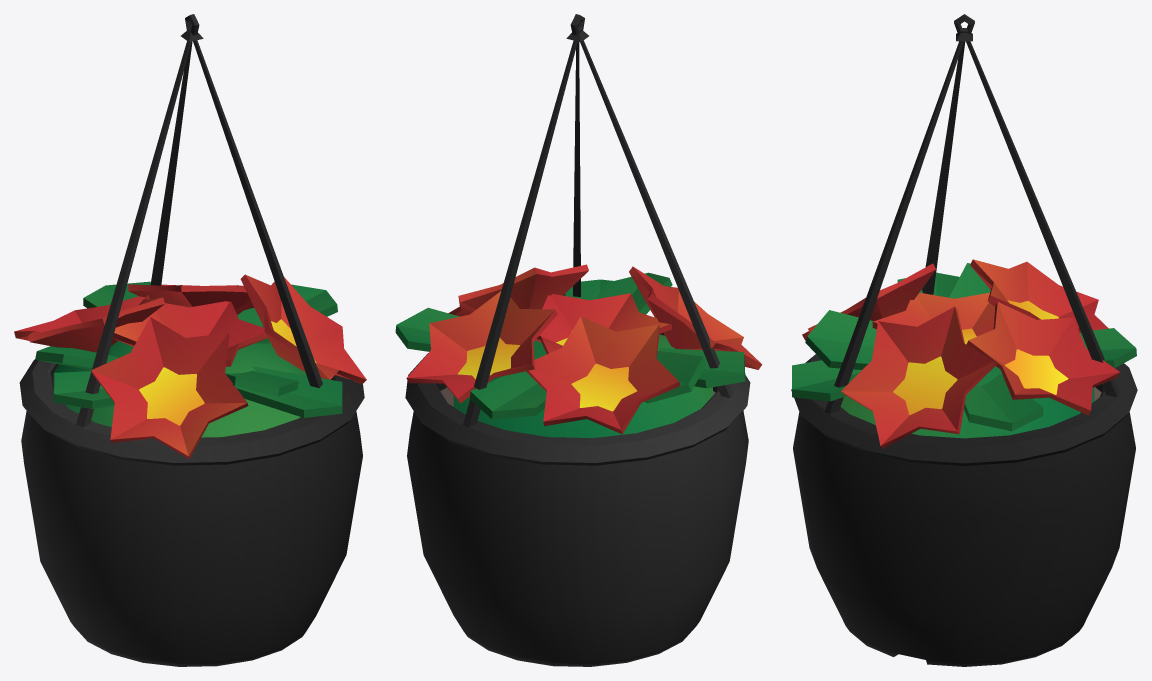
File: HangingFlowerPotRed.fbx
3 views of the same model, side by side, from view 1: azimuth 30°, elevation 25°; view 2: azimuth 150°, elevation 25°; view 3: azimuth 270°, elevation 25° (orthographic).
Parts seen in each view (by area): view 1: HangingFlowerPotRed; view 2: HangingFlowerPotRed; view 3: HangingFlowerPotRed.
Boxes of the visible parts, <box> form: HangingFlowerPotRed: <box>14,14,366,666</box>; HangingFlowerPotRed: <box>395,14,762,666</box>; HangingFlowerPotRed: <box>791,14,1137,666</box>.
Size of the model in its own units: 0.814 by 1.5 by 0.7841.
